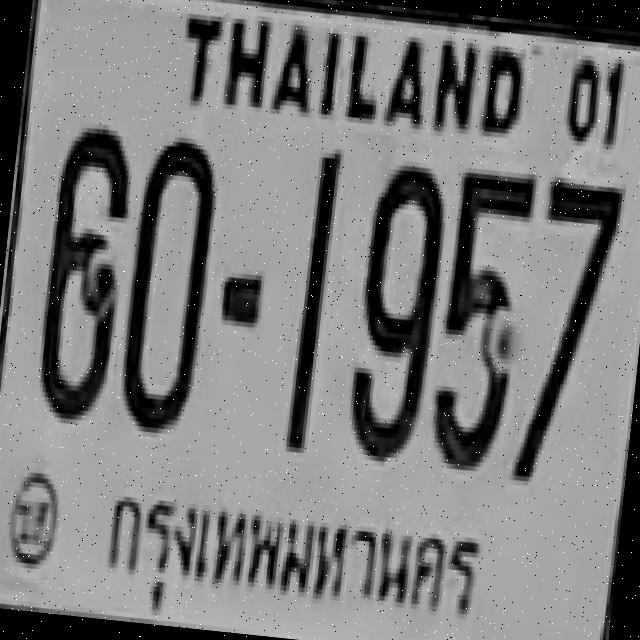0: (114, 132, 220, 434)
1: (284, 144, 340, 450), (284, 146, 340, 448)
5: (426, 164, 536, 472)
6: (33, 120, 136, 422)
7: (511, 174, 623, 486)
9: (342, 158, 448, 460)
Bangkok: (86, 470, 490, 640)
